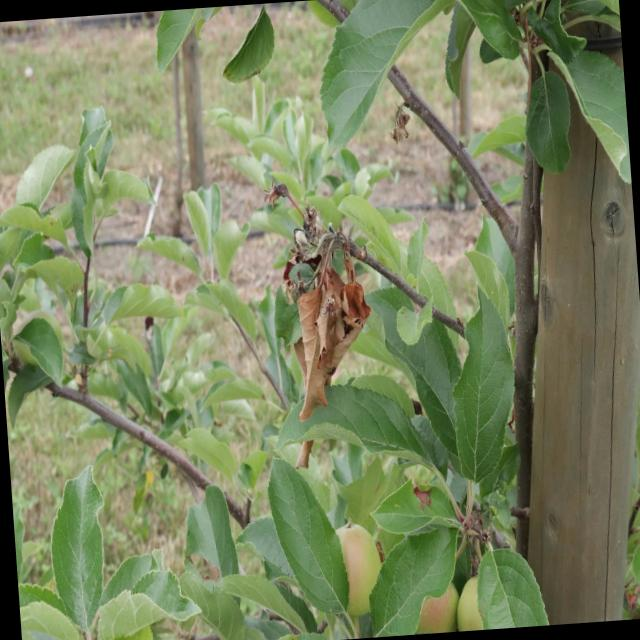-FireBlight-: (266, 190, 373, 400)
